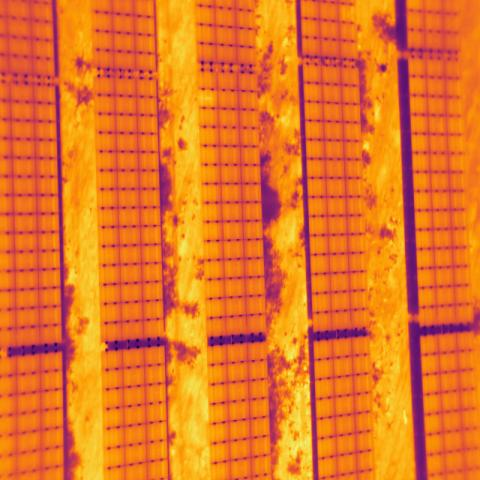fault: (199, 89, 218, 109)
